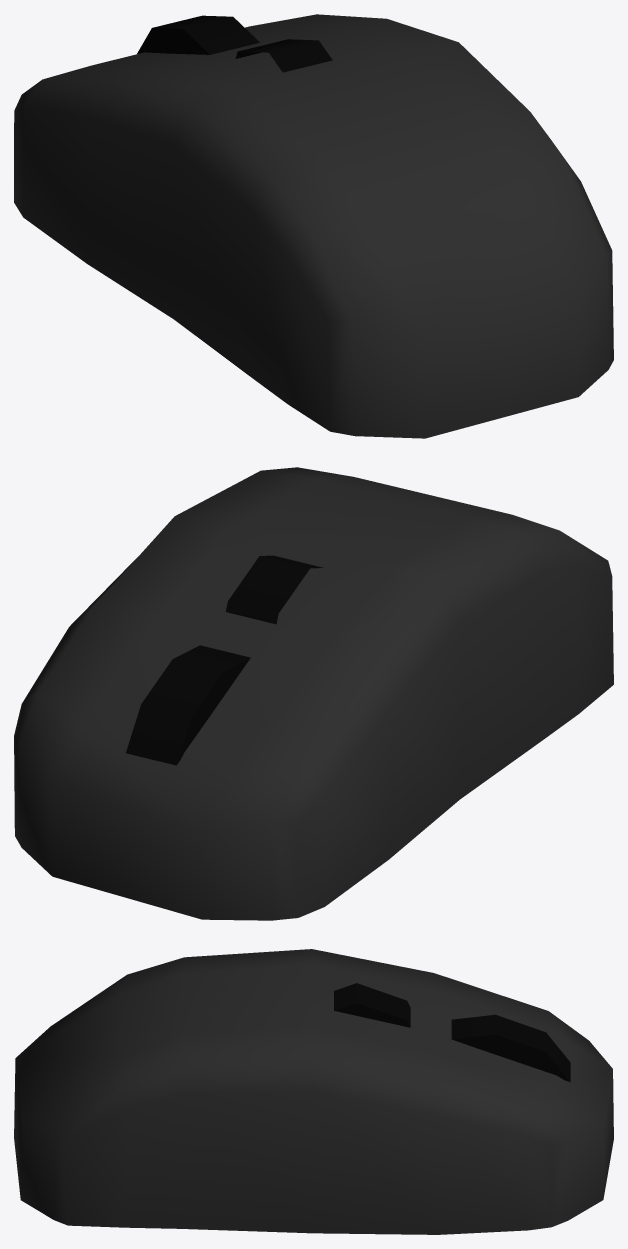
Rendered from PC_Mouse.fbx.
3 renders of one model, top to bottom at view 1: azimuth 30°, elevation 25°; view 2: azimuth 150°, elevation 25°; view 3: azimuth 270°, elevation 25°, orthographic. The views are drawn at different scales.
Visible parts, largest first — view 1: PC_Mouse; view 2: PC_Mouse; view 3: PC_Mouse.
Boxes of the visible parts, x1=… form: PC_Mouse: x1=14, y1=14, x2=613, y2=438; PC_Mouse: x1=14, y1=467, x2=613, y2=920; PC_Mouse: x1=14, y1=949, x2=613, y2=1234.
Size of the model in its own units: 6 by 3.9 by 12.
